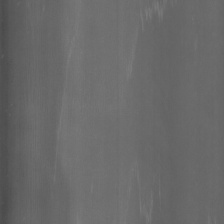silk_spot: (125, 0, 168, 81)
